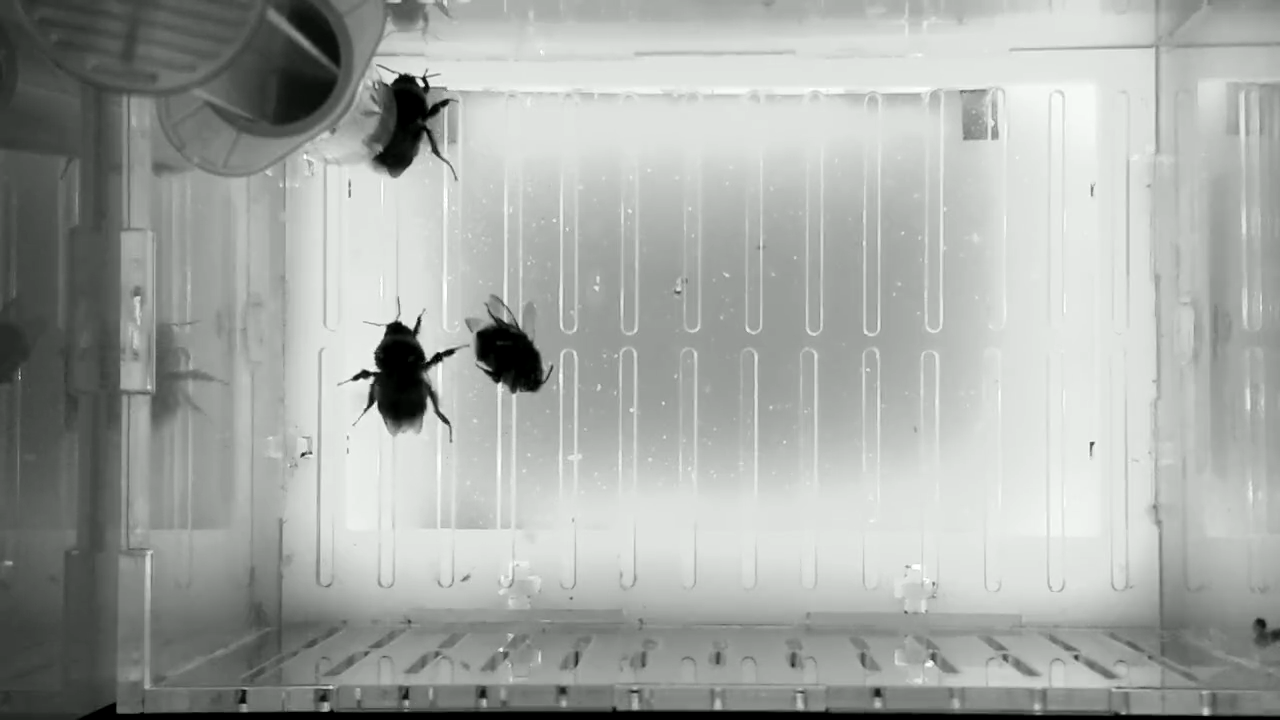bee_alive: (333, 298, 476, 445), (364, 62, 465, 190)
bee_dead: (455, 290, 558, 396)
feeder: (290, 58, 403, 179)
